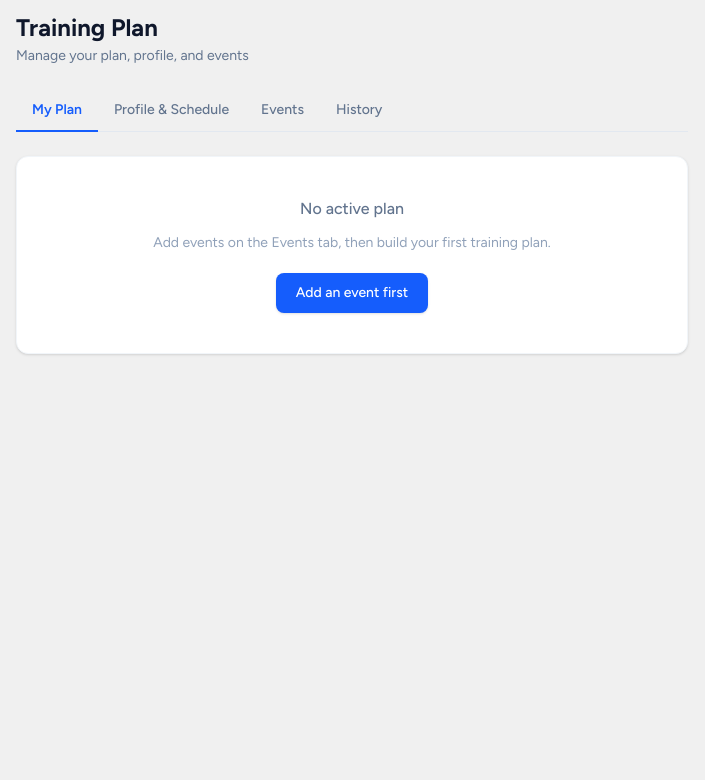
Test: Profile & Schedule tab › shows FTP input when Stats Edit is clicked
The width and height of the screenshot is (705, 780).
Click the button "Profile & Schedule".
click(172, 111)  # box x1=98 y1=90 x2=245 y2=132
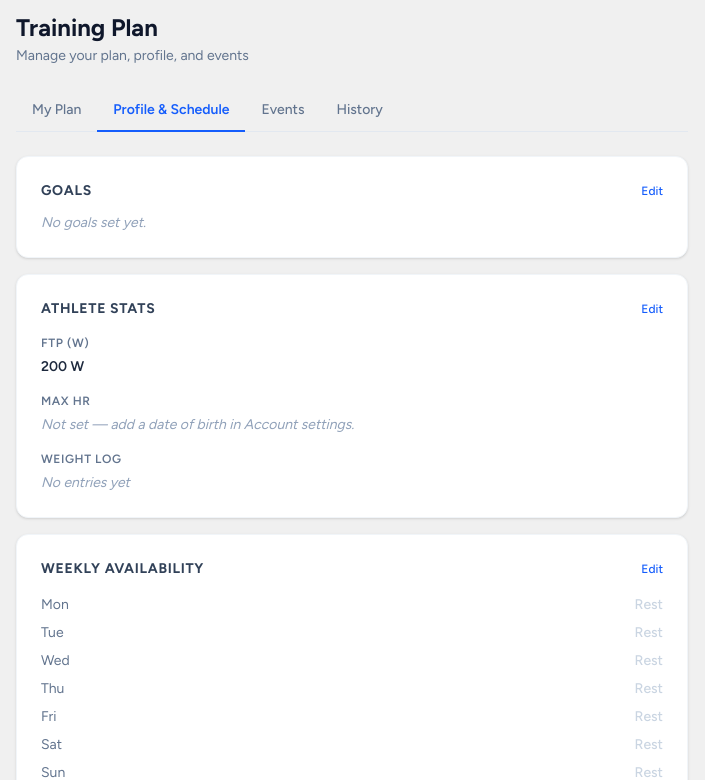
Click the button with aria-label "edit stats".
click(652, 309)  # box x1=641 y1=301 x2=663 y2=317
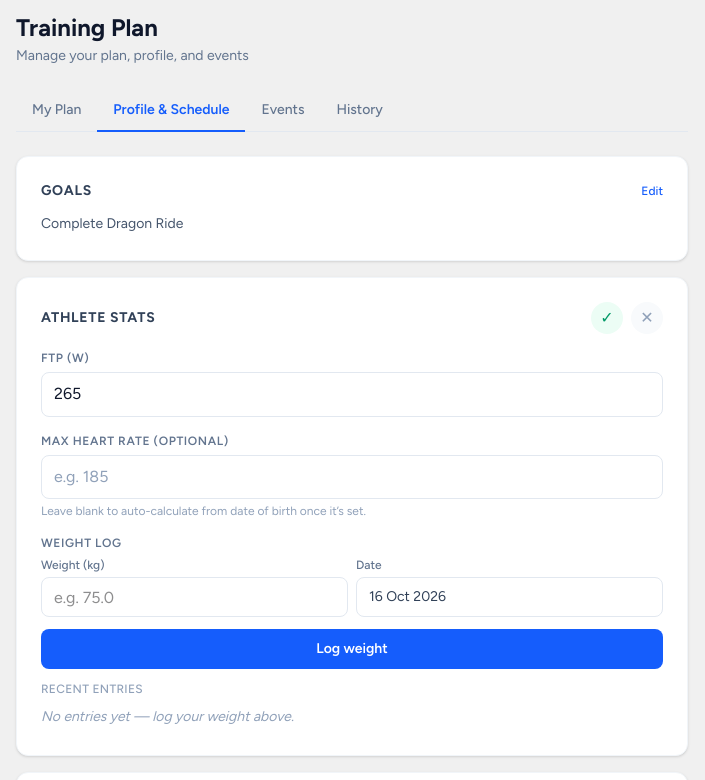
Now the number field labelled "FTP (W)" is shown, box x1=41 y1=372 x2=663 y2=417
